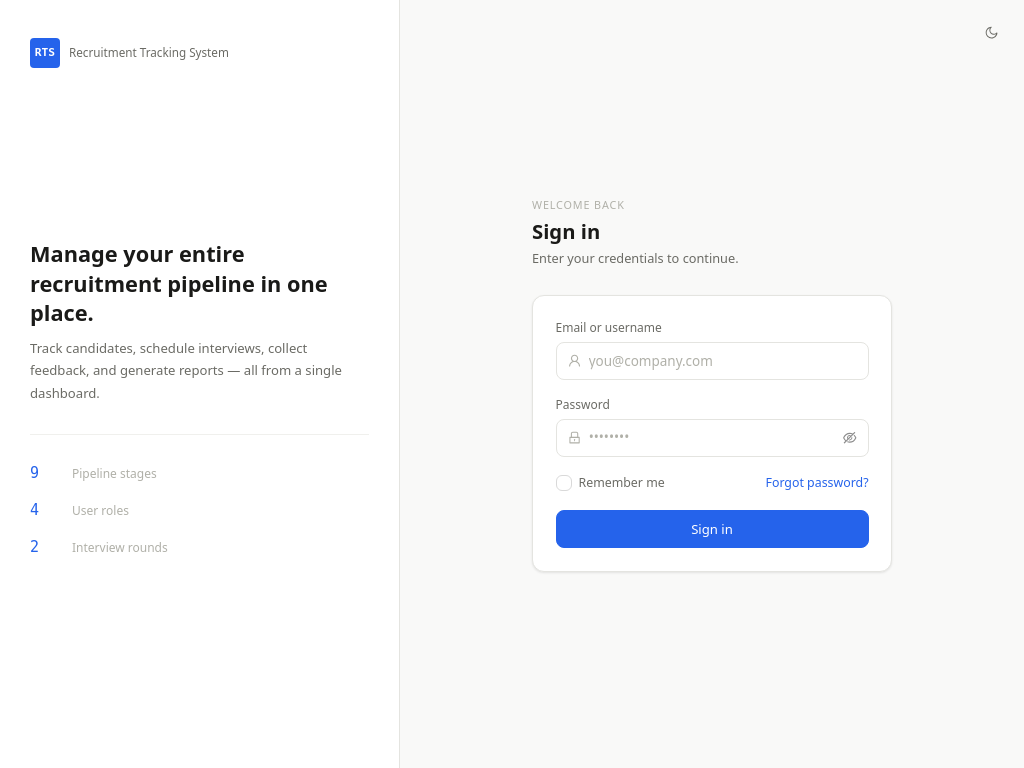
LoginPage Tests › shows error when password is missing
Step 1. Type "admin@rts.com" into the field with placeholder "you@company.com" → (723, 361), box [589,350,856,372]
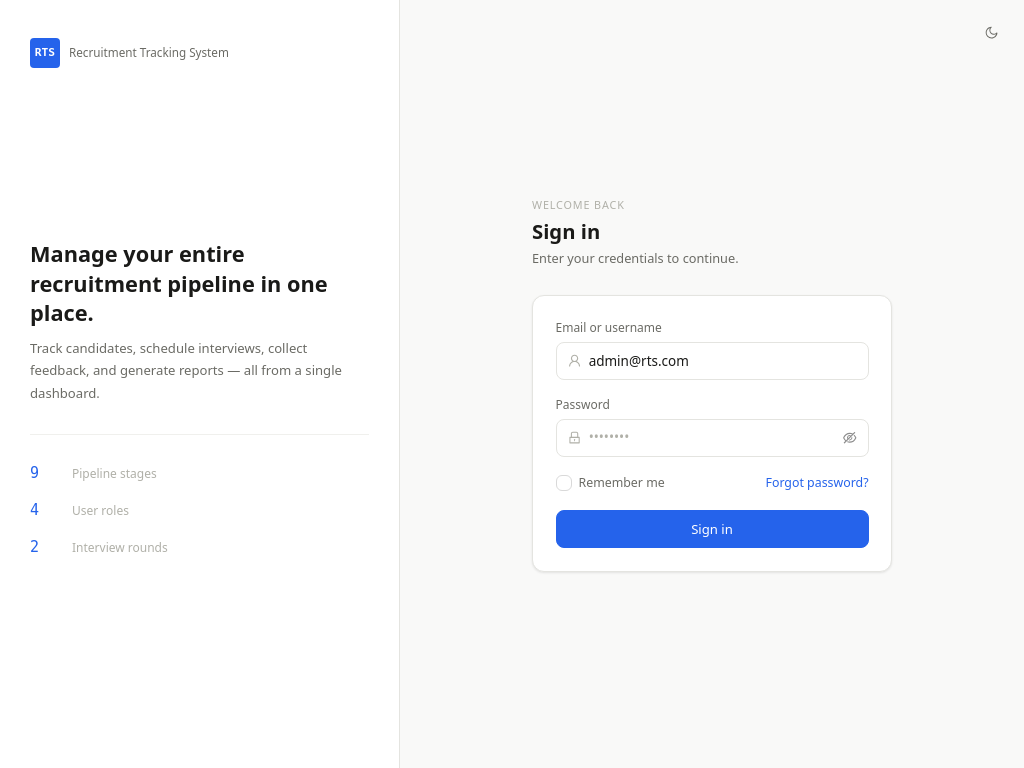
Step 2. Click the button "Sign in" → (712, 529), box [556,510,868,548]
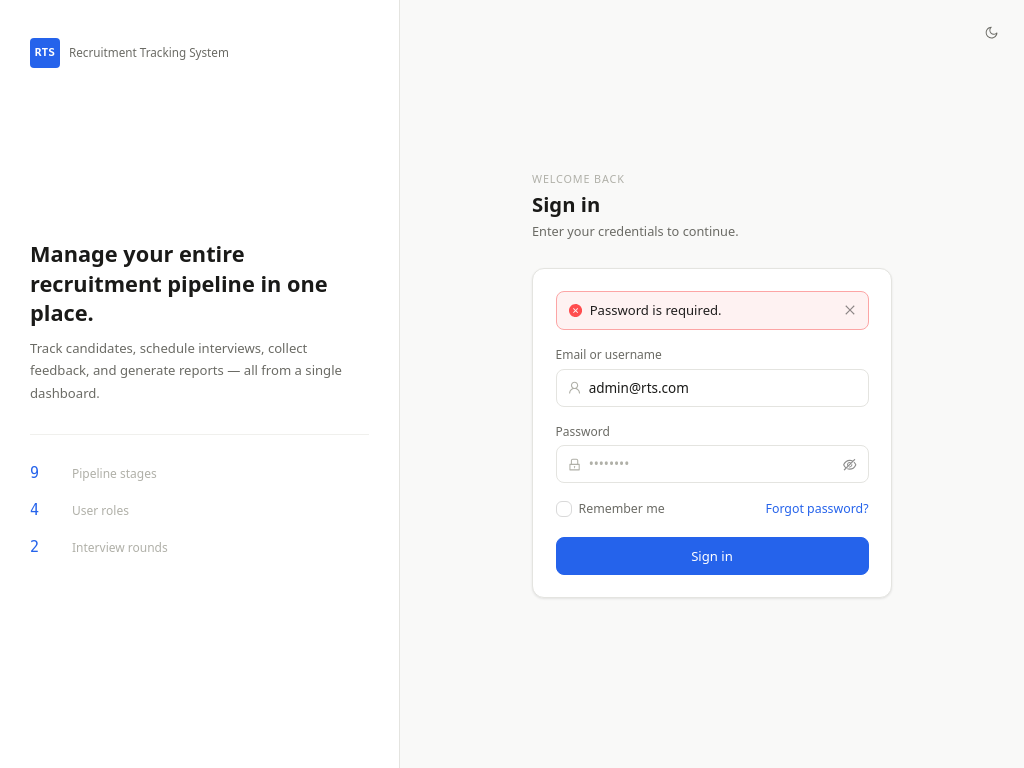
expect the text "Password is required." is shown: met, box [590,301,722,319]
